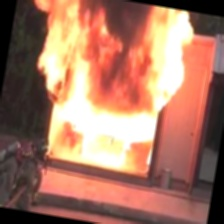fire: (0, 0, 221, 197)
